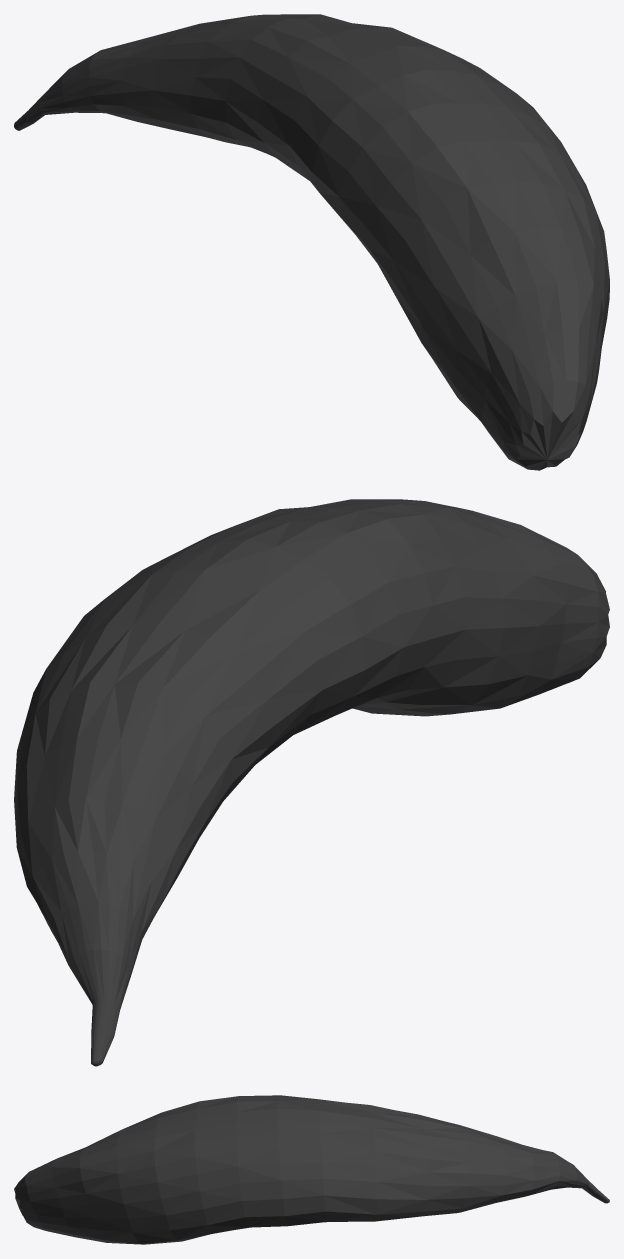
File: DeltoidAcro_1.glb
3 views of the same model, one above another, from view 1: azimuth 30°, elevation 25°; view 2: azimuth 150°, elevation 25°; view 3: azimuth 270°, elevation 25° (orthographic). The views are drawn at different scales.
Visible parts, largest first — view 1: DeltoidAcro_1; view 2: DeltoidAcro_1; view 3: DeltoidAcro_1.
Boxes of the visible parts, x1,y1,x2,y2 form: DeltoidAcro_1: [14, 14, 609, 470]; DeltoidAcro_1: [14, 499, 609, 1066]; DeltoidAcro_1: [14, 1095, 609, 1244].
Size of the model in its own units: 0.00744 by 0.00637 by 0.0239.
1 material, 1 textured.
